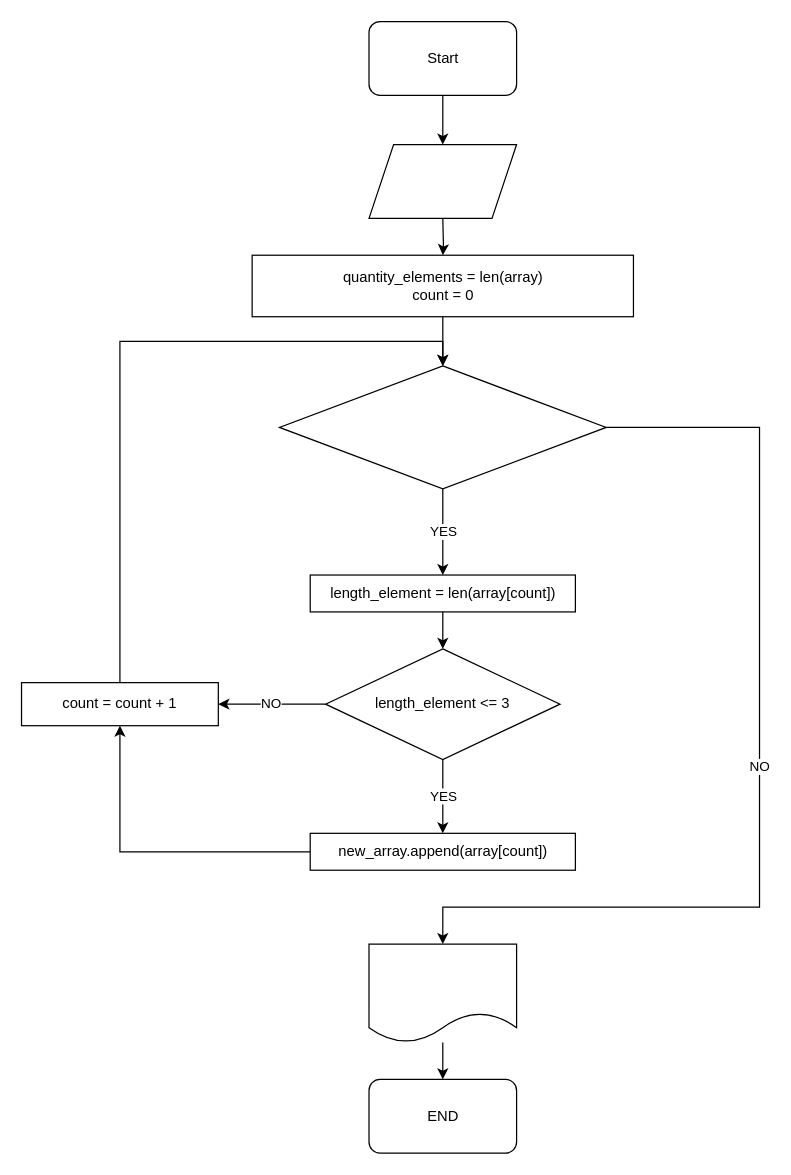
Some shapes in this 791 by 1175 pixel diagram are drawn without their labels. The shapes that lost their labels are listed below. From the top down, each one's centre as x and y in pixels, then its label:
(x=442, y=180): array = input() new_array = []
(x=442, y=427): count < quantity_elements
(x=442, y=992): new_array
